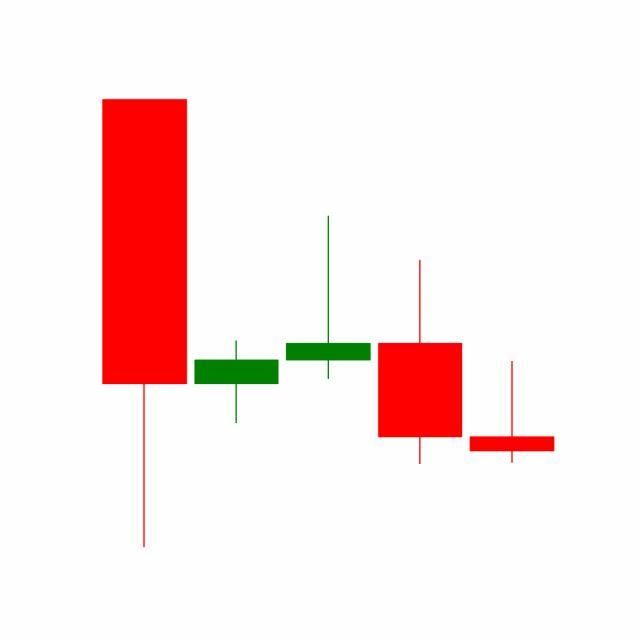Gravestone Doji: (466, 360, 559, 464)
